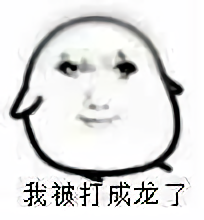dragon: (53, 49, 144, 132)
